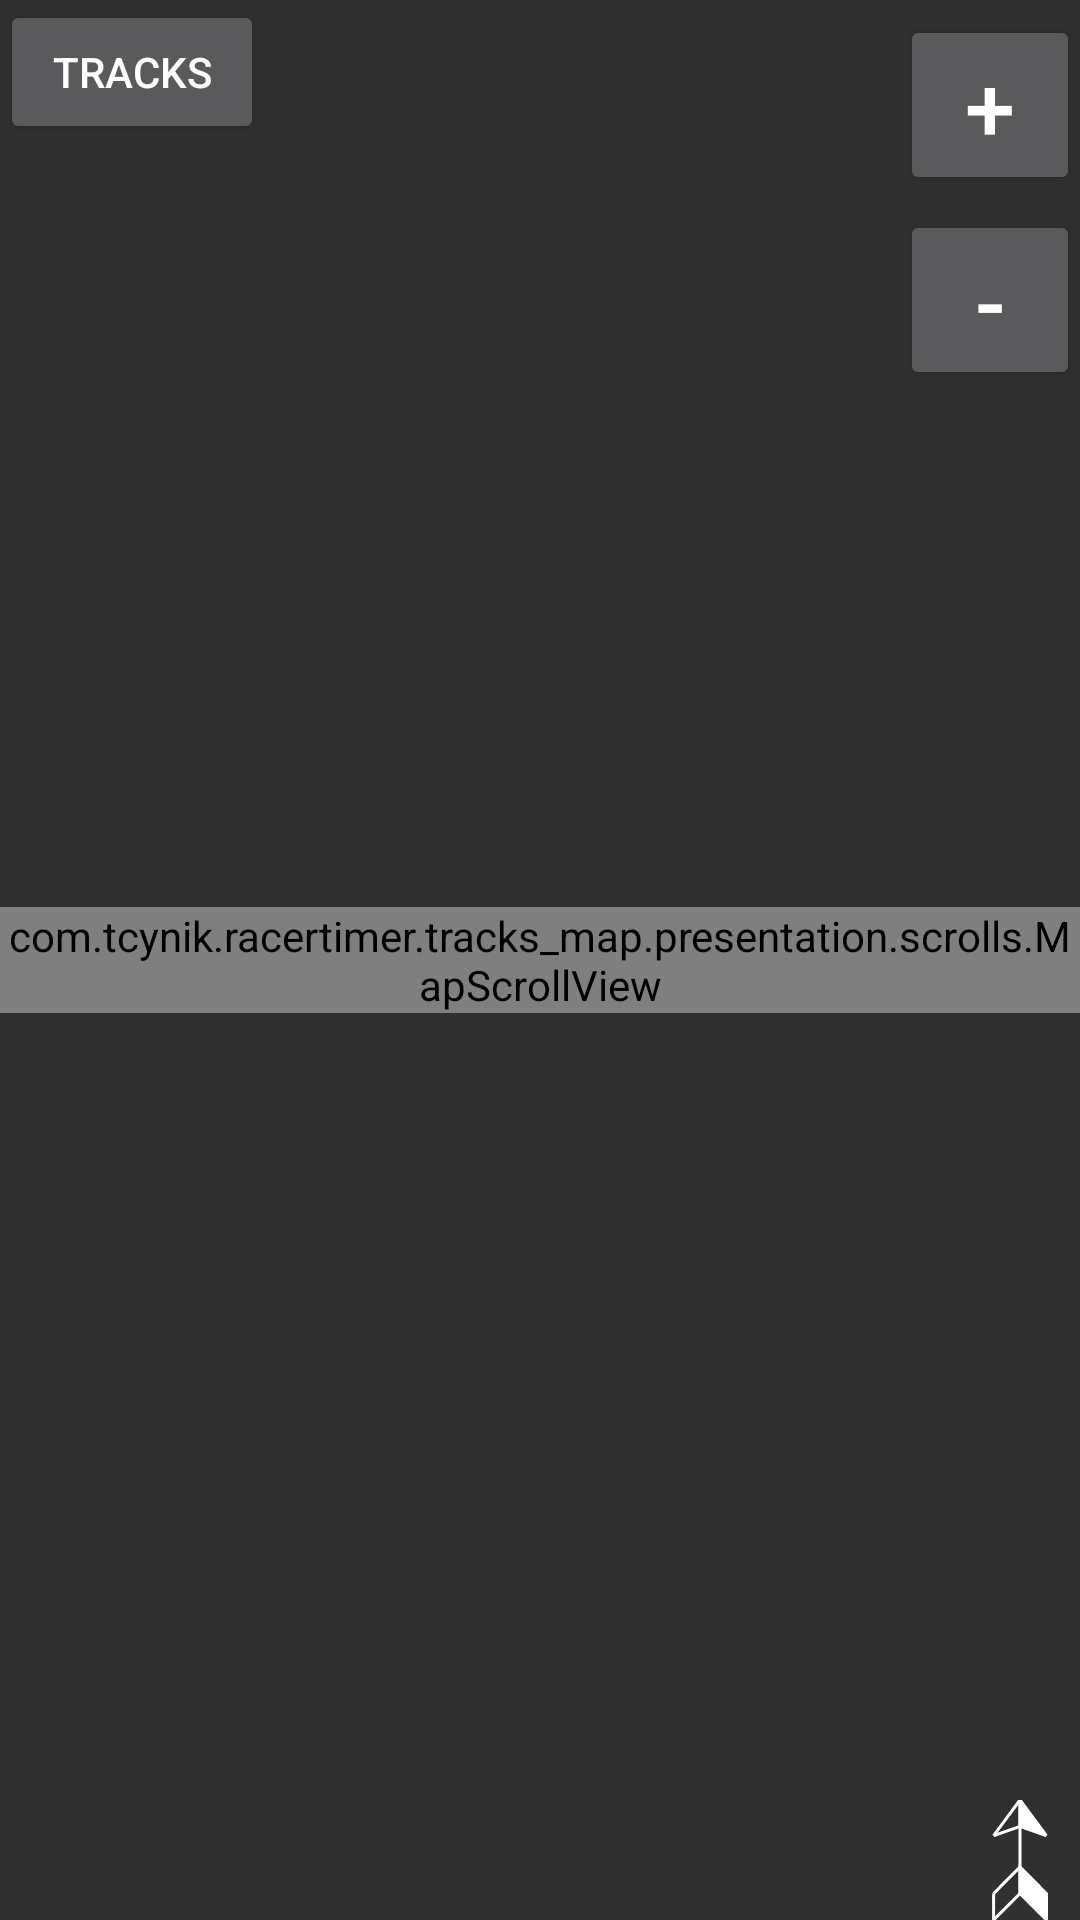

Locate icon controls on the screen. Image size 1080*1920, boxes as (x1=x1, y1=y1, x2=x2, y2=y2).
windarrow: (x1=992, y1=1800, x2=1048, y2=1920)
